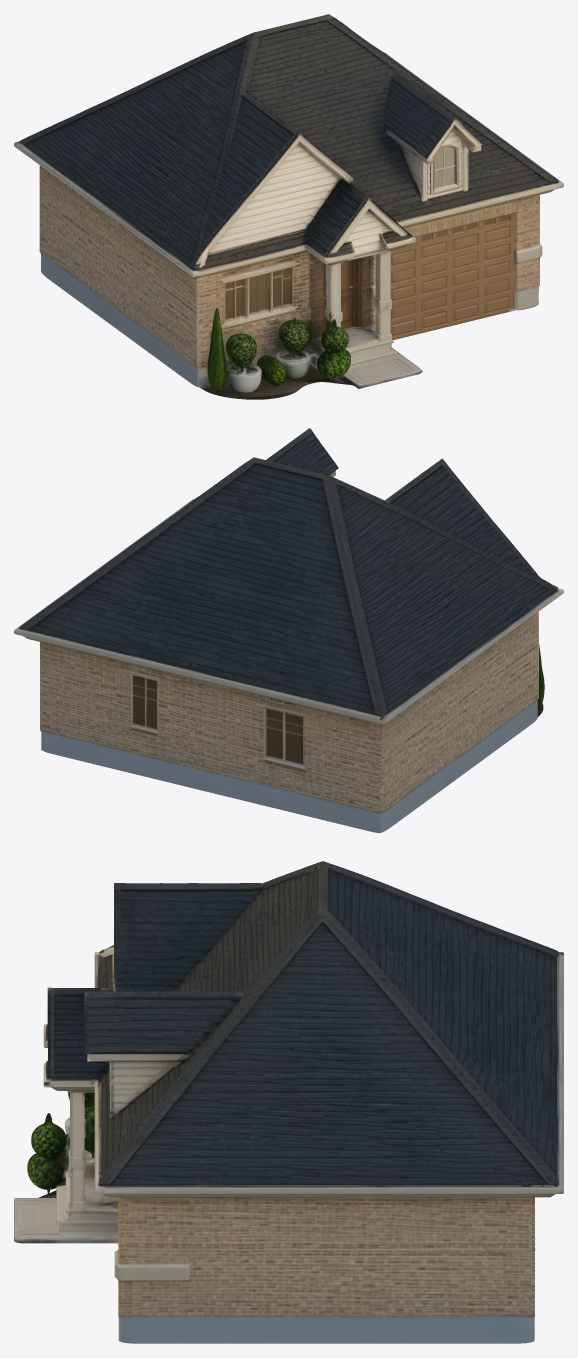
File: RUMAH BATU 2house_x_xiv.glb
3 renders of one model, top to bottom at view 1: azimuth 30°, elevation 25°; view 2: azimuth 150°, elevation 25°; view 3: azimuth 270°, elevation 25°, orthographic. The views are drawn at different scales.
Parts seen in each view (by area): view 1: Object_6, Object_5, Object_7, Object_4, Object_8; view 2: Object_7, Object_5, Object_4, Object_6, Object_8; view 3: Object_6, Object_8, Object_7, Object_5, Object_4.
Part boxes in pixels (x1=…): Object_6: x1=14, y1=39, x2=554, y2=372; Object_5: x1=15, y1=24, x2=551, y2=375; Object_7: x1=39, y1=61, x2=554, y2=383; Object_4: x1=20, y1=45, x2=422, y2=399; Object_8: x1=215, y1=14, x2=563, y2=239; Object_7: x1=14, y1=452, x2=507, y2=832; Object_5: x1=14, y1=483, x2=562, y2=724; Object_4: x1=19, y1=548, x2=544, y2=831; Object_6: x1=14, y1=428, x2=563, y2=765; Object_8: x1=49, y1=457, x2=359, y2=604; Object_6: x1=43, y1=870, x2=563, y2=1284; Object_8: x1=44, y1=861, x2=545, y2=1193; Object_7: x1=43, y1=880, x2=563, y2=1343; Object_5: x1=21, y1=869, x2=563, y2=1343; Object_4: x1=14, y1=907, x2=558, y2=1243.
Size of the model in its own units: 0.8358 by 0.5754 by 0.8195.
1 material, 1 textured.
